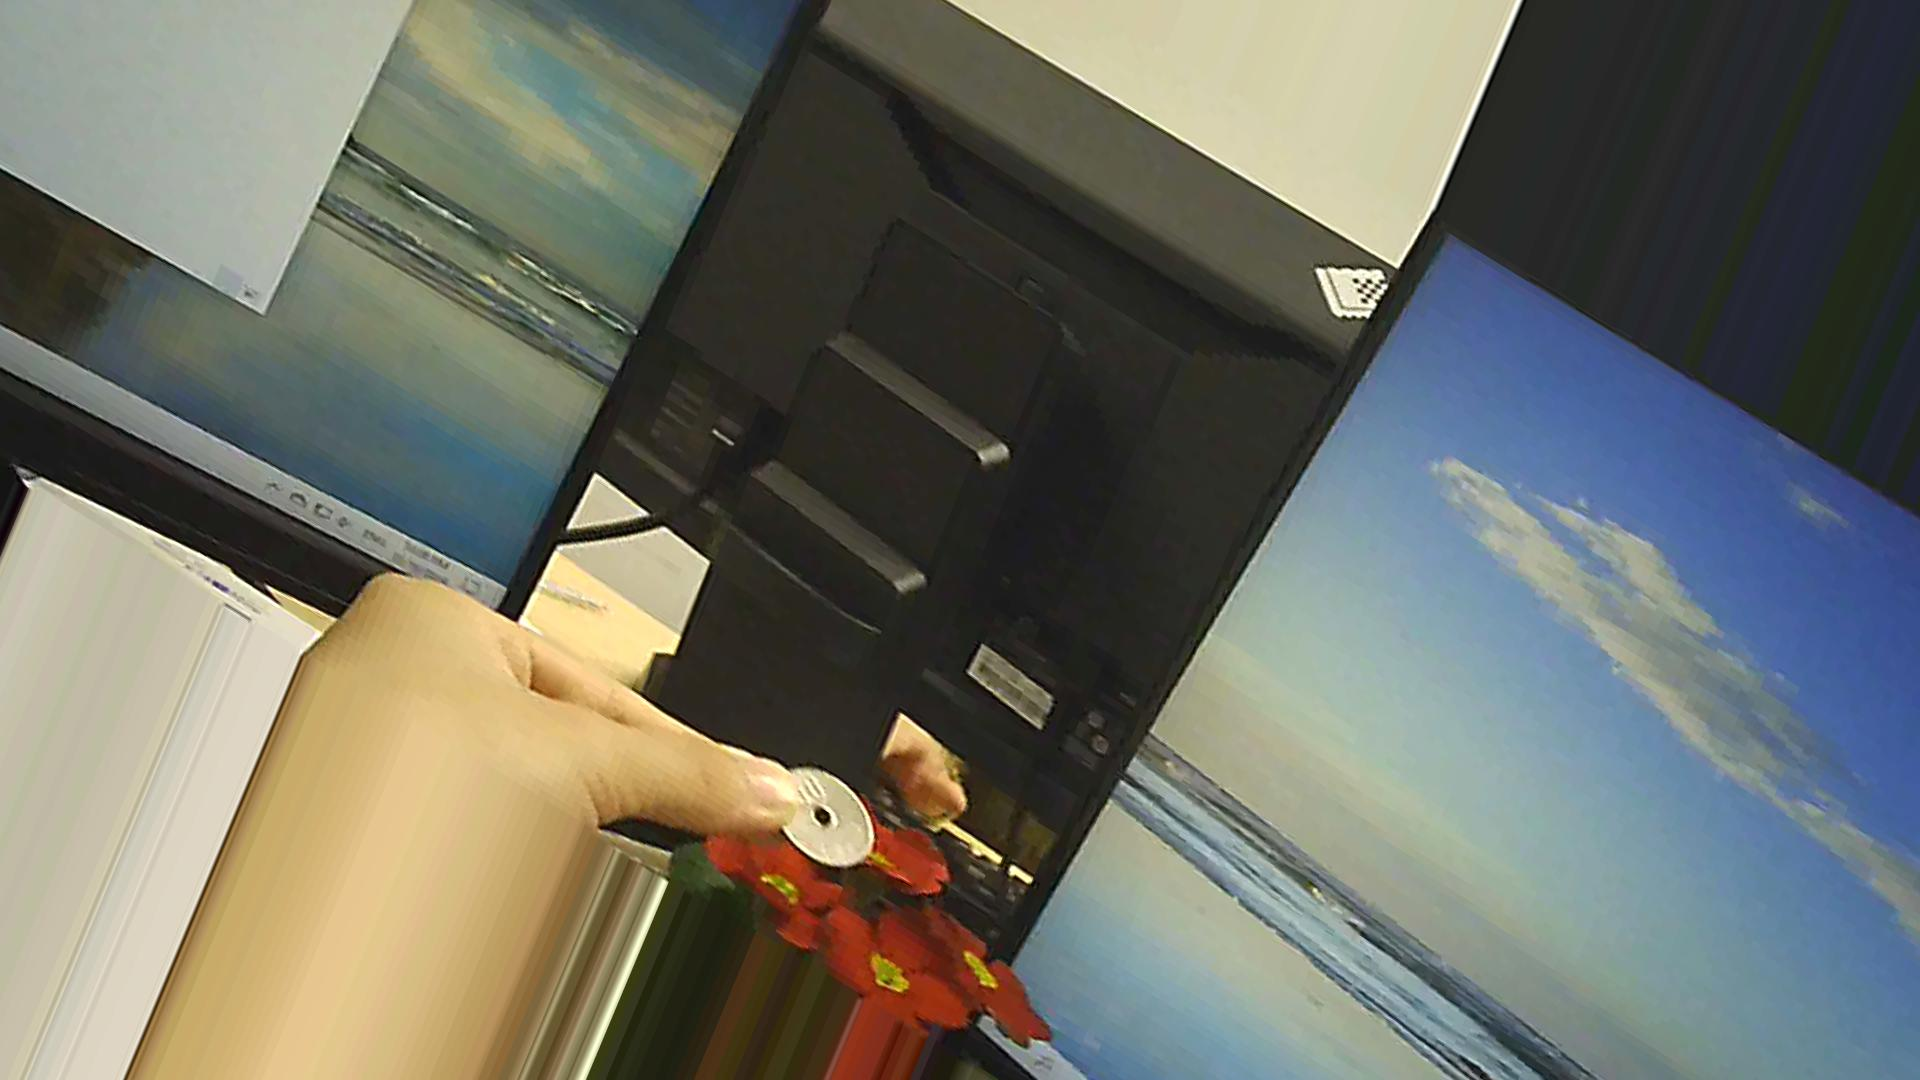50 Yen: (761, 760, 882, 873)
